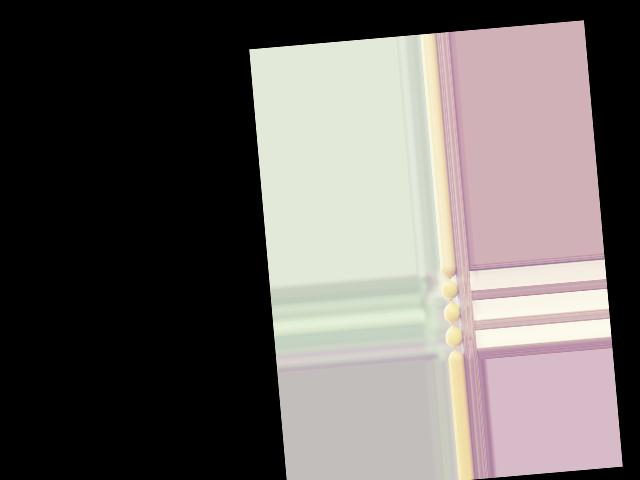lemon: (447, 349, 463, 362)
